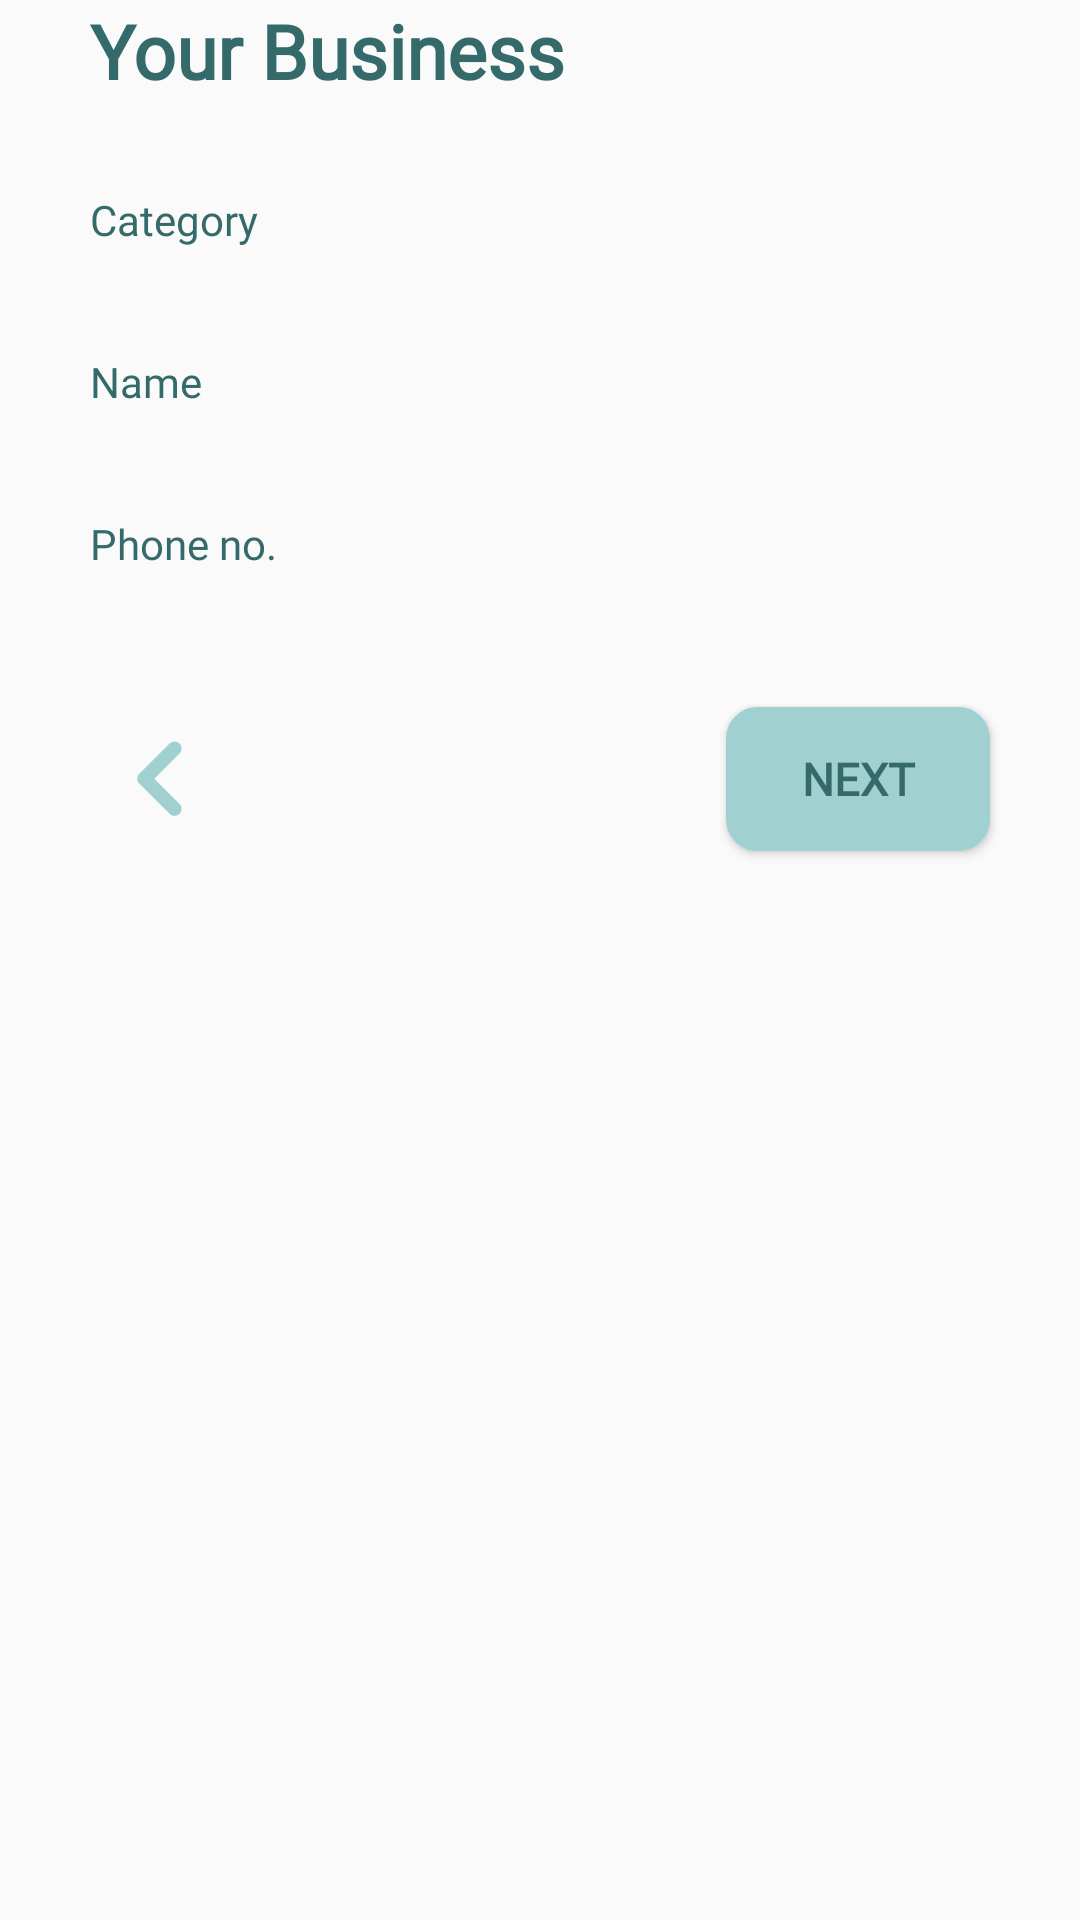

Named icons in this screenshot (1080px×1920px) and their centers, point (x, y):
back: point (159, 778)
